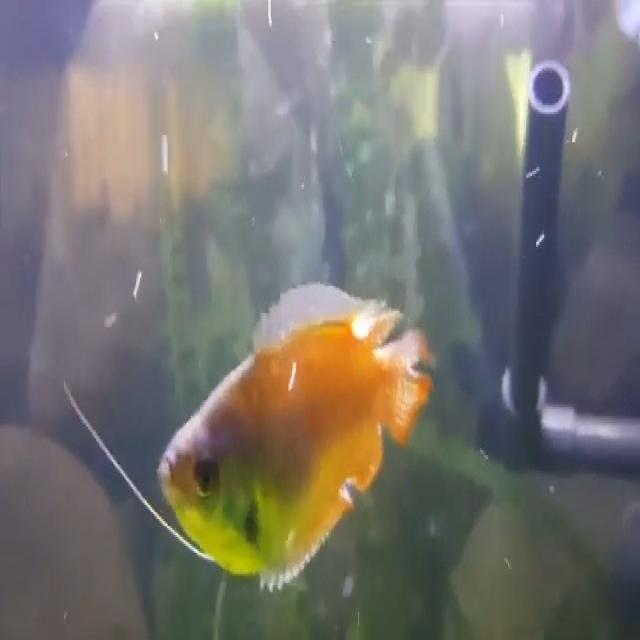fish: (156, 280, 432, 592)
